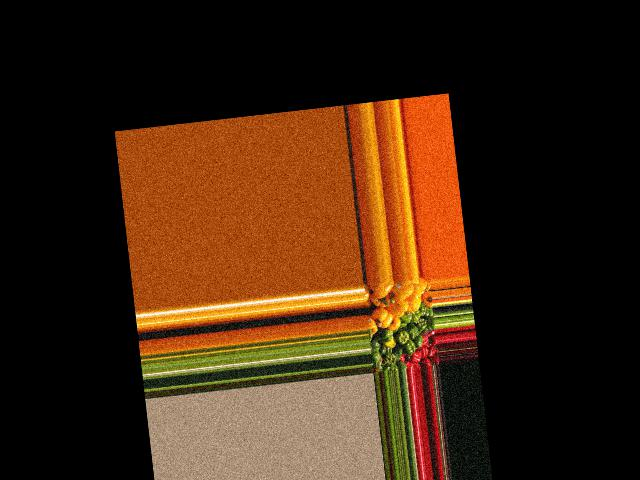bell_pepper: (370, 355, 383, 372)
